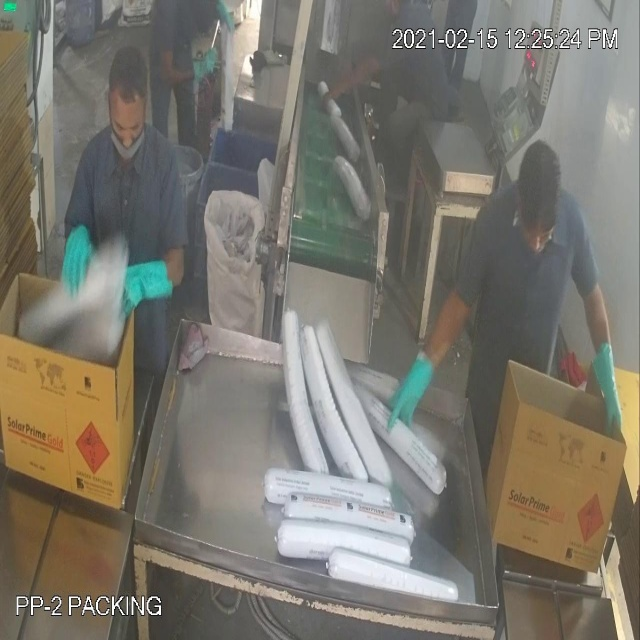Guantes: (385, 319, 448, 459), (590, 308, 638, 452), (114, 244, 183, 320), (56, 204, 97, 298)
Sin_guantes: (320, 43, 384, 113)
